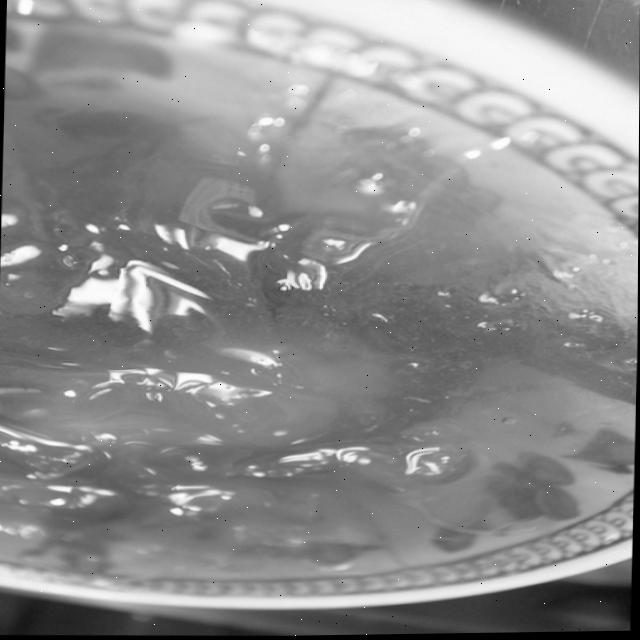蛋糕甜品: (0, 18, 637, 626)
